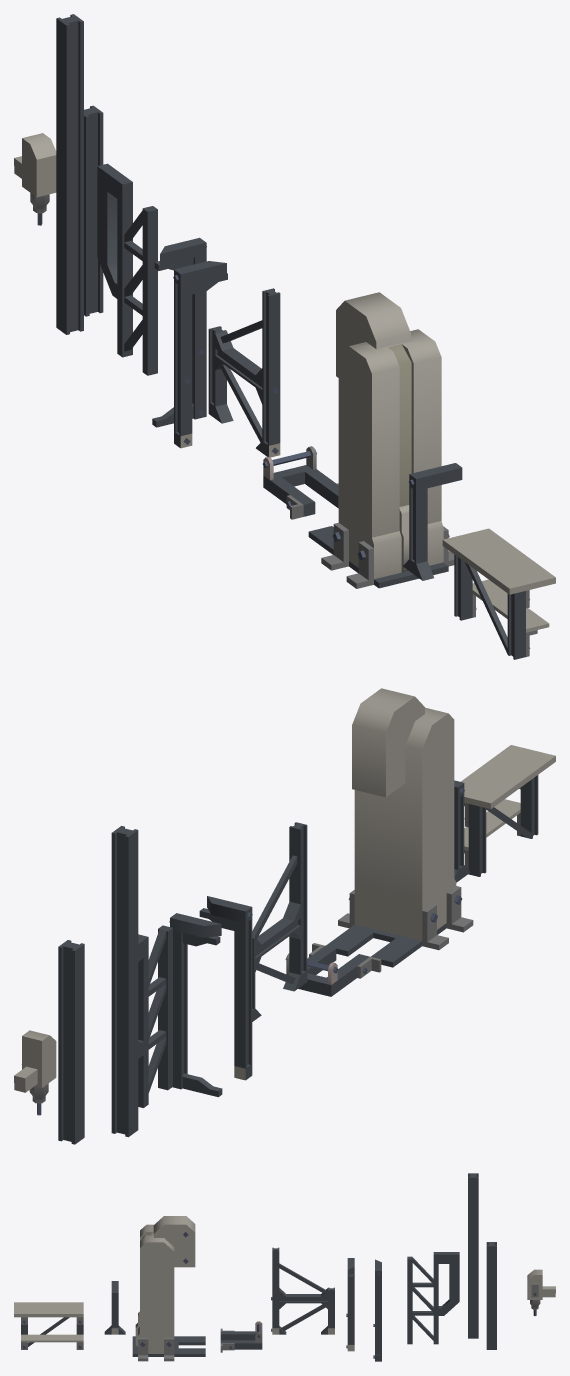
The model's file is machine_parts.fbx.
3 renders of one model, top to bottom at view 1: azimuth 30°, elevation 25°; view 2: azimuth 150°, elevation 25°; view 3: azimuth 270°, elevation 25°, orthographic. The views are drawn at different scales.
Visible parts, largest first — view 1: machine_part_09, machine_part_03, machine_part_04, machine_part_11, machine_part_07, machine_part_06, machine_part_02, machine_part_05, machine_part_08, machine_part_10, machine_part_01; view 2: machine_part_09, machine_part_03, machine_part_11, machine_part_02, machine_part_04, machine_part_07, machine_part_06, machine_part_05, machine_part_08, machine_part_01, machine_part_10; view 3: machine_part_09, machine_part_04, machine_part_07, machine_part_11, machine_part_03, machine_part_02, machine_part_08, machine_part_06, machine_part_01, machine_part_05, machine_part_10.
Boxes of the visible parts, box(x1,y1,x2,y2) form: machine_part_09: box(308, 292, 454, 588); machine_part_03: box(56, 14, 83, 334); machine_part_04: box(97, 163, 157, 375); machine_part_11: box(442, 528, 555, 659); machine_part_07: box(208, 288, 280, 457); machine_part_06: box(173, 261, 227, 448); machine_part_02: box(84, 105, 103, 316); machine_part_05: box(152, 237, 206, 427); machine_part_08: box(263, 446, 338, 519); machine_part_10: box(403, 463, 462, 580); machine_part_01: box(14, 133, 56, 225); machine_part_09: box(326, 688, 473, 967); machine_part_03: box(111, 826, 138, 1137); machine_part_11: box(460, 745, 555, 876); machine_part_02: box(58, 940, 84, 1144); machine_part_04: box(138, 925, 172, 1107); machine_part_07: box(252, 822, 307, 1021); machine_part_06: box(199, 896, 252, 1080); machine_part_05: box(169, 913, 222, 1097); machine_part_08: box(285, 943, 381, 996); machine_part_01: box(14, 1030, 56, 1115); machine_part_10: box(454, 780, 470, 882); machine_part_09: box(132, 1216, 205, 1361); machine_part_04: box(407, 1252, 459, 1344); machine_part_07: box(271, 1247, 334, 1334); machine_part_11: box(14, 1302, 83, 1349); machine_part_03: box(468, 1173, 478, 1338); machine_part_02: box(486, 1242, 496, 1349); machine_part_08: box(220, 1321, 262, 1352); machine_part_06: box(346, 1258, 354, 1351); machine_part_01: box(527, 1269, 555, 1315); machine_part_05: box(373, 1259, 381, 1361); machine_part_10: box(104, 1281, 125, 1334).
Size of the model in its own units: 3.6 by 11.13 by 31.14.
